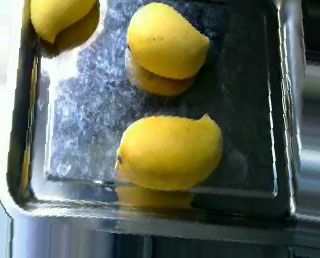Mango: (117, 104, 228, 193), (125, 1, 214, 83), (18, 0, 102, 49)
